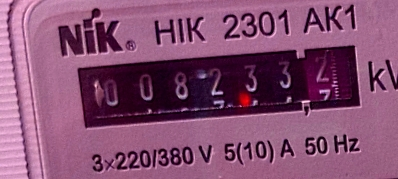0: (99, 76, 122, 109), (135, 71, 156, 104)
2: (204, 65, 227, 99), (312, 52, 331, 85)
3: (240, 62, 260, 94), (276, 58, 295, 90)
8: (170, 69, 191, 102)
screen: (66, 32, 372, 139)
